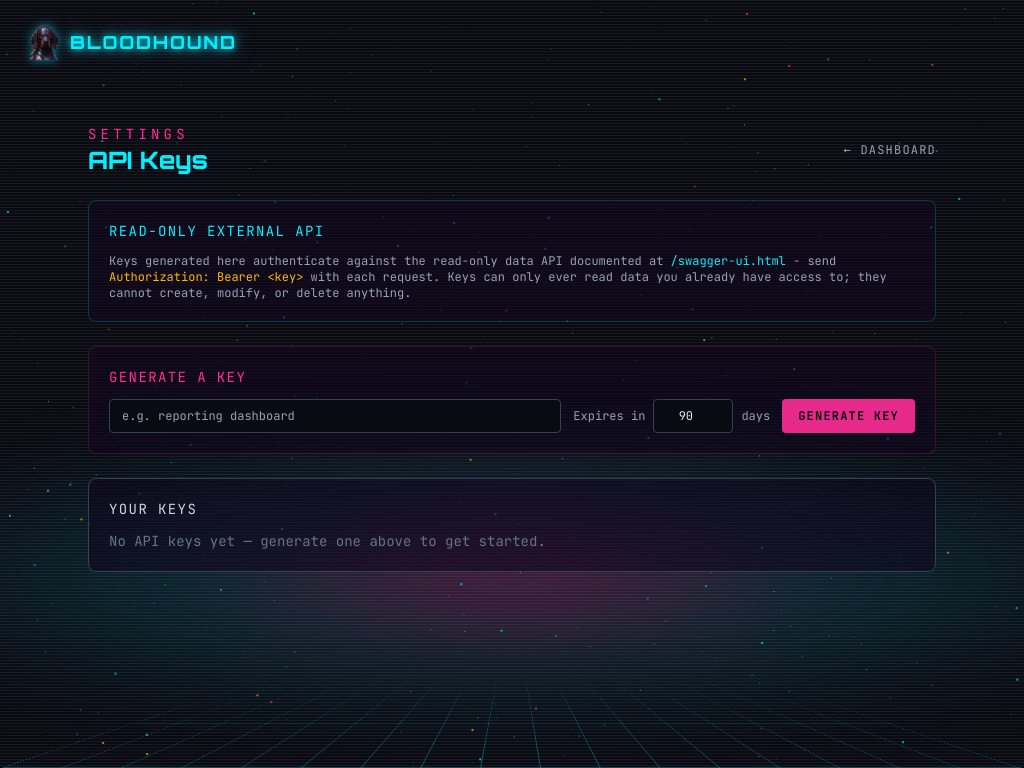
Test case: ApiKeysPage › generating a key shows the raw key exactly once, in the modal, and refetches the list
Expected: the text "No API keys yet — generate one above to get started." is shown, [109, 532, 546, 550]
Step 1. Type "reporting dashboard" into the field with placeholder "e.g. reporting dashboard" → x=335, y=416, box [109, 399, 561, 433]
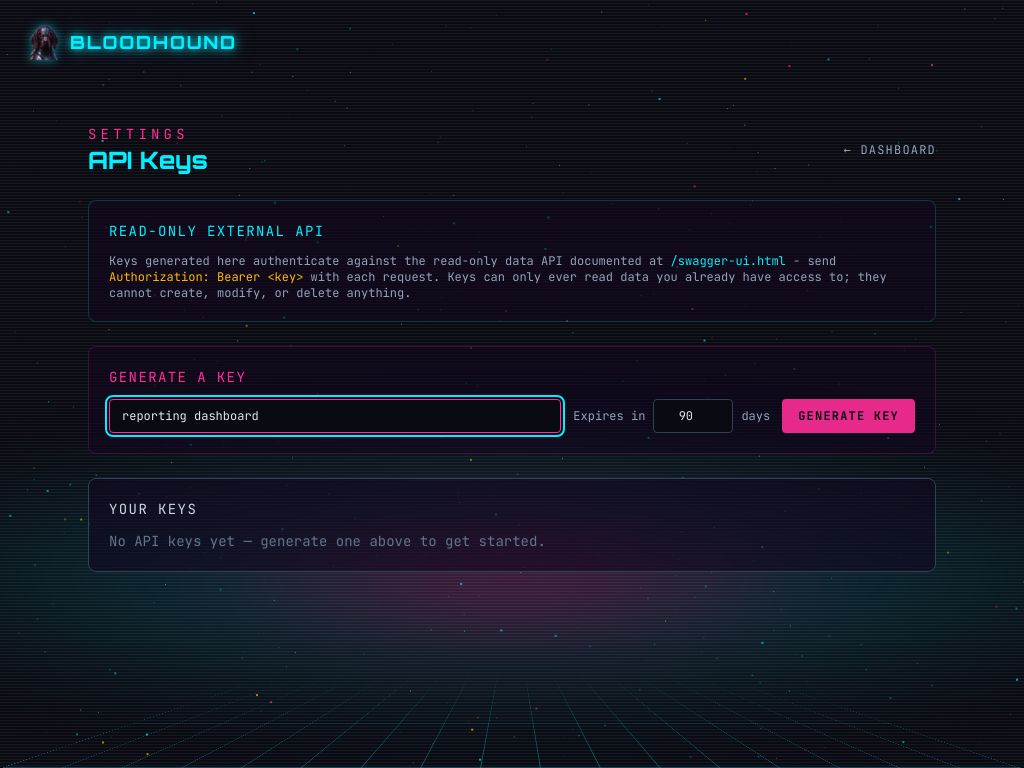
Step 2. Click the button "Generate key" → x=849, y=416, box [782, 399, 915, 433]
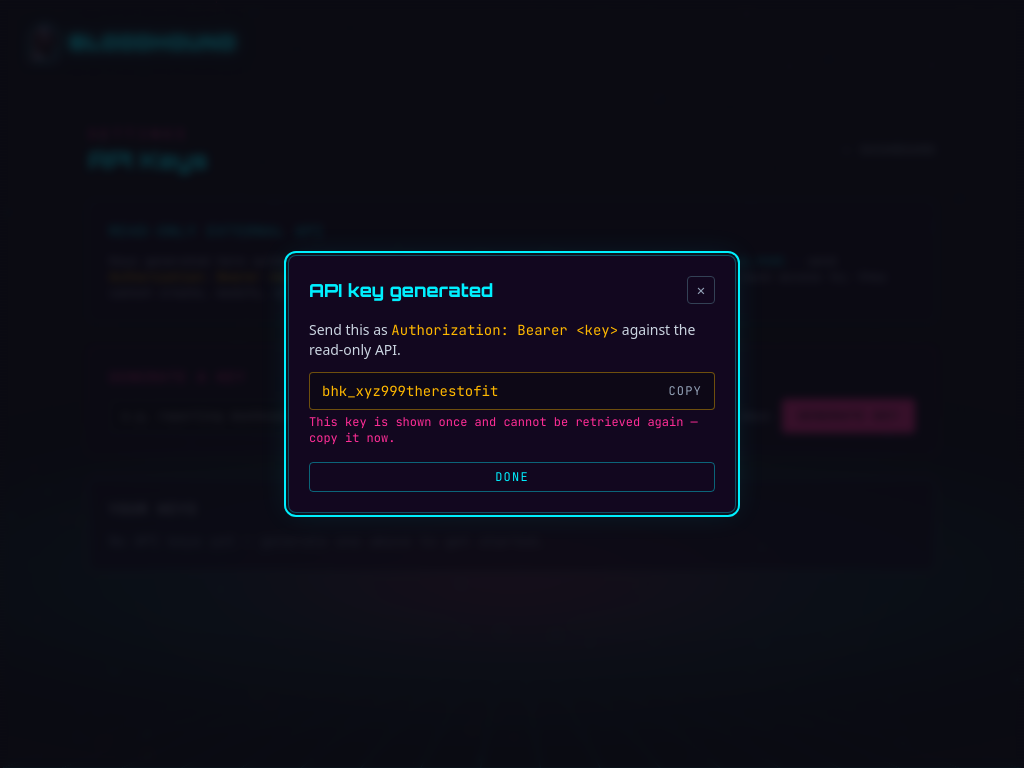
Now the text "bhk_xyz999therestofit" is shown, box [322, 382, 498, 400]
Now the text "shown once and cannot be retrieved again" is shown, box [309, 414, 698, 446]
